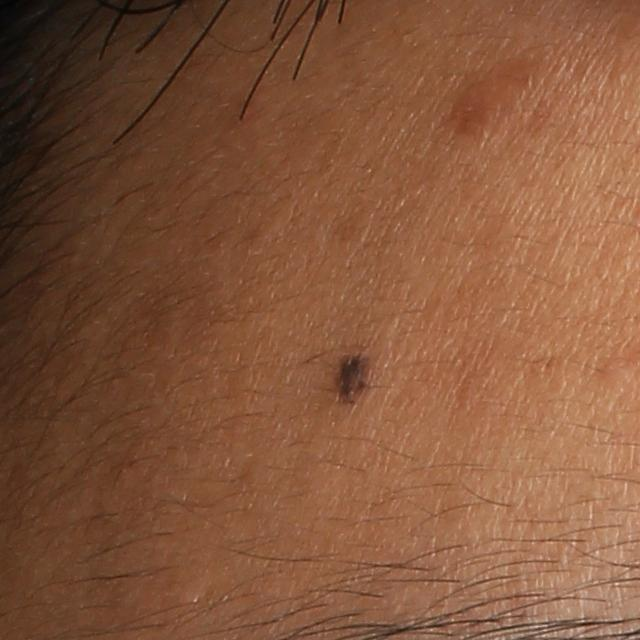nevus: (333, 352, 375, 404)
